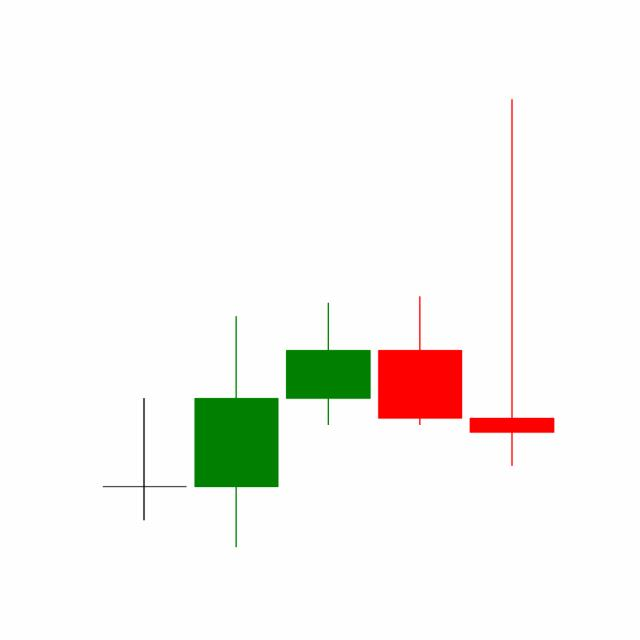Spinning Top: (464, 94, 558, 470)
